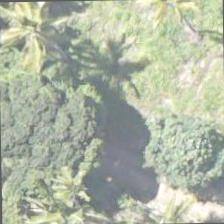Kelapa_Sawit: (11, 157, 103, 223), (0, 0, 85, 60), (100, 0, 192, 52), (104, 173, 196, 223)
